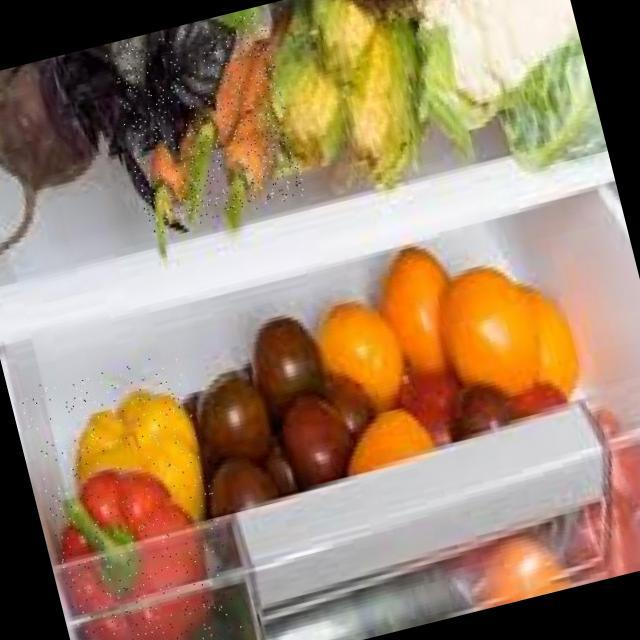Zanahoria: (104, 10, 308, 235)
peppers: (17, 349, 248, 640)
